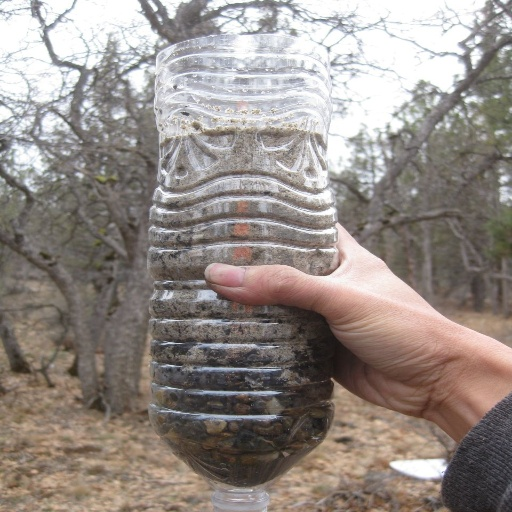hand: (205, 202, 510, 502)
